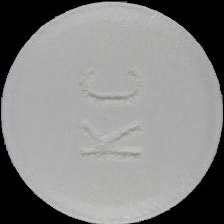66869-104: (0, 0, 224, 224)
